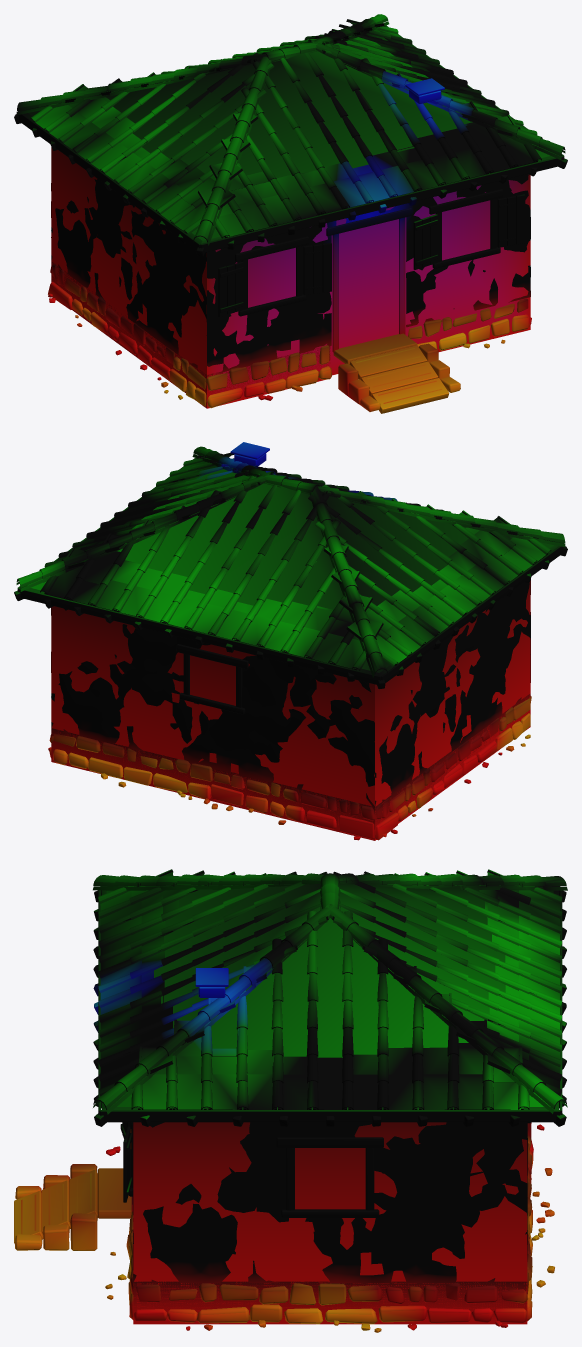
The model's file is valdora_t2_hip.glb.
3 renders of one model, top to bottom at view 1: azimuth 30°, elevation 25°; view 2: azimuth 150°, elevation 25°; view 3: azimuth 270°, elevation 25°, orthographic. The views are drawn at different scales.
Parts seen in each view (by area): view 1: valdora_t2_hip_shell, valdora_t2_hip_far, valdora_t2_hip_detail; view 2: valdora_t2_hip_shell, valdora_t2_hip_far, valdora_t2_hip_detail; view 3: valdora_t2_hip_shell, valdora_t2_hip_far, valdora_t2_hip_detail.
Boxes of the visible parts, x1,y1,x2,y2 form: valdora_t2_hip_shell: (14,14,567,413); valdora_t2_hip_far: (28,36,555,405); valdora_t2_hip_detail: (48,78,516,403); valdora_t2_hip_shell: (14,446,567,840); valdora_t2_hip_far: (27,468,553,828); valdora_t2_hip_detail: (48,442,530,840); valdora_t2_hip_shell: (14,869,567,1324); valdora_t2_hip_far: (103,883,553,1320); valdora_t2_hip_detail: (21,968,554,1332).
Bounding box in the file's own units: 6.91 × 4.76 × 7.03.
